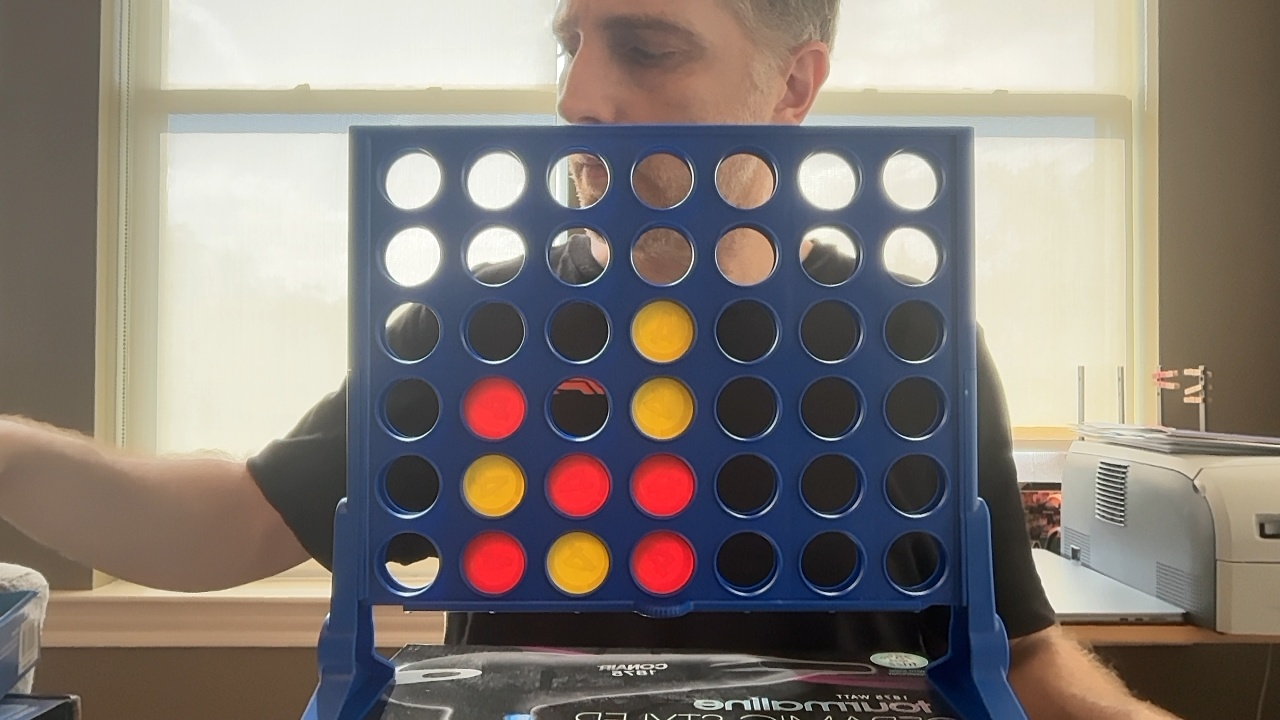red piece: (631, 531, 694, 595), (547, 454, 610, 517), (462, 377, 526, 439), (632, 454, 694, 517), (462, 532, 525, 594)
yellow piece: (546, 531, 609, 594), (632, 300, 694, 362), (632, 377, 694, 439), (463, 455, 525, 517)
